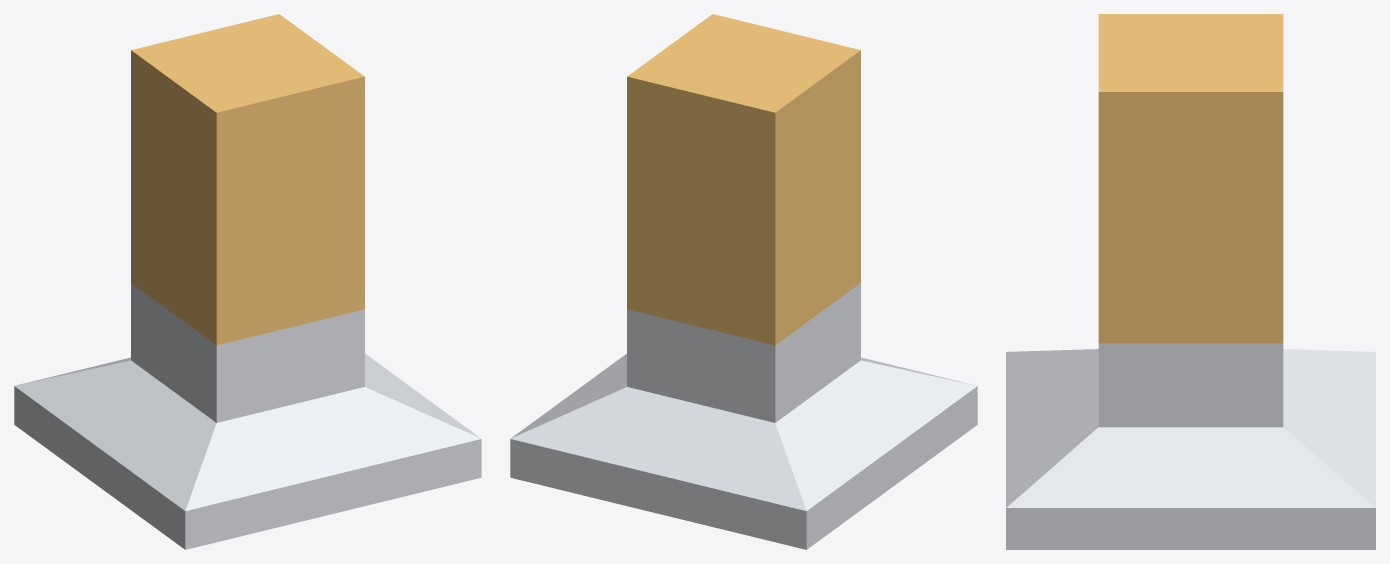
The model's file is pipe_supportLow.glb.
3 views of the same model, side by side, from view 1: azimuth 30°, elevation 25°; view 2: azimuth 150°, elevation 25°; view 3: azimuth 270°, elevation 25° (orthographic). The views are drawn at different scales.
Parts seen in each view (by area): view 1: pipe_supportLow; view 2: pipe_supportLow; view 3: pipe_supportLow.
Part boxes in pixels (x1,y1,x2,y2): pipe_supportLow: (14,14,481,549); pipe_supportLow: (510,14,977,549); pipe_supportLow: (1006,14,1375,549).
Bounding box in the file's own units: 0.4 × 0.5 × 0.4.
